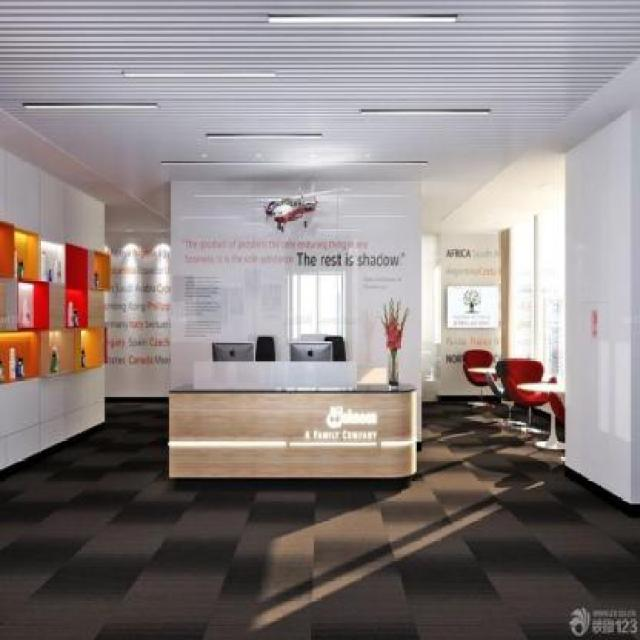frontdesk: (166, 337, 425, 491)
